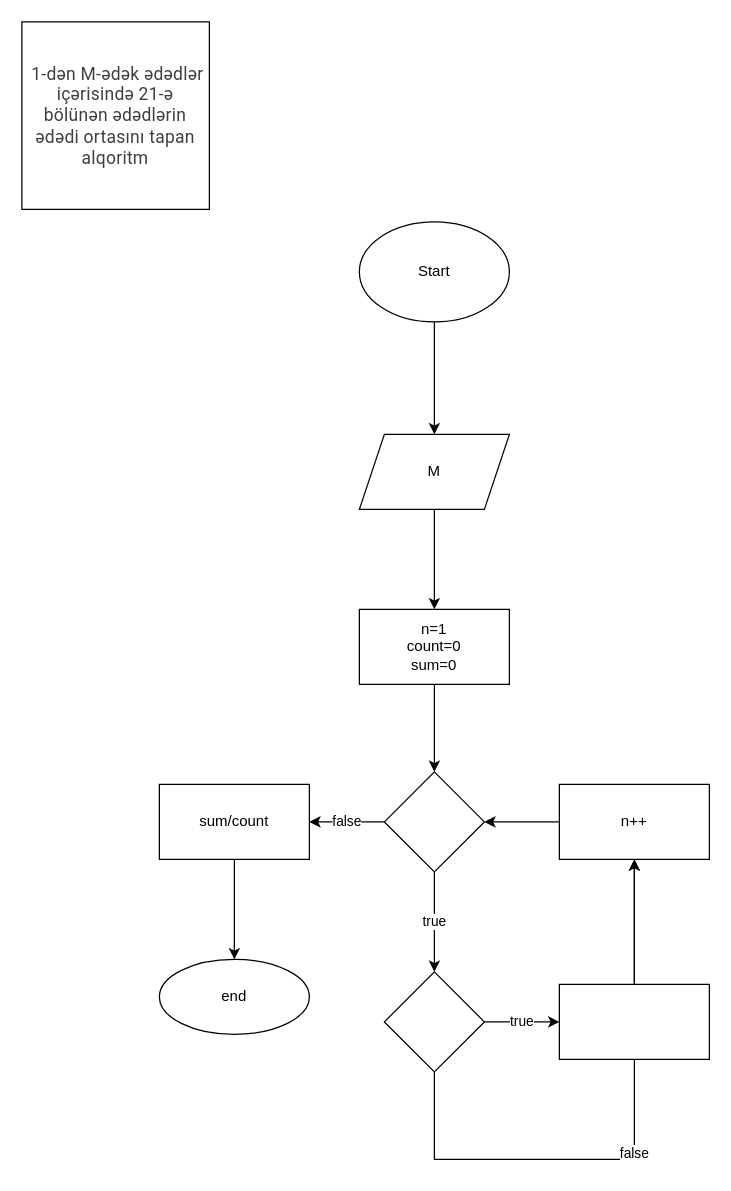
This 731x1191 diagram has some shape labels left out. Here are the shapes that lost their labels. From the top down, the centre of each, then its label:
At pixel 433 821: "n<M".
At pixel 433 1021: "n%21==0".
At pixel 633 1021: "sum+=n count++".
